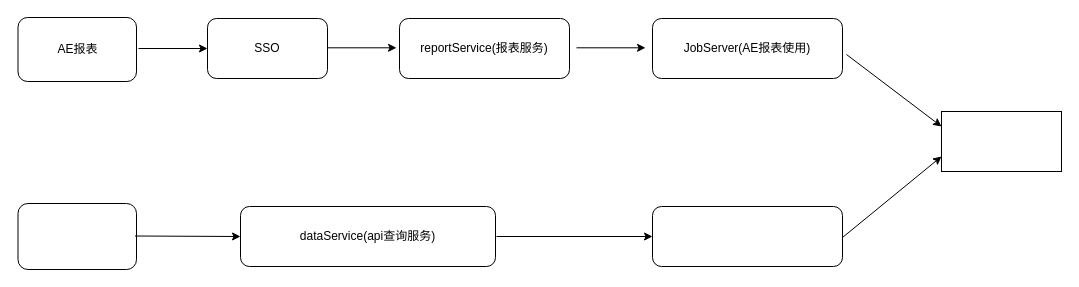
The diagram is 1079 pixels wide and 287 high, and some of its shapes have lost their labels. Here are the shapes that lost their labels. From the top down, the centre of each, then its label:
the point at 1001,141: carbonData库
the point at 76,236: api调用
the point at 747,236: JobServer(API使用)
